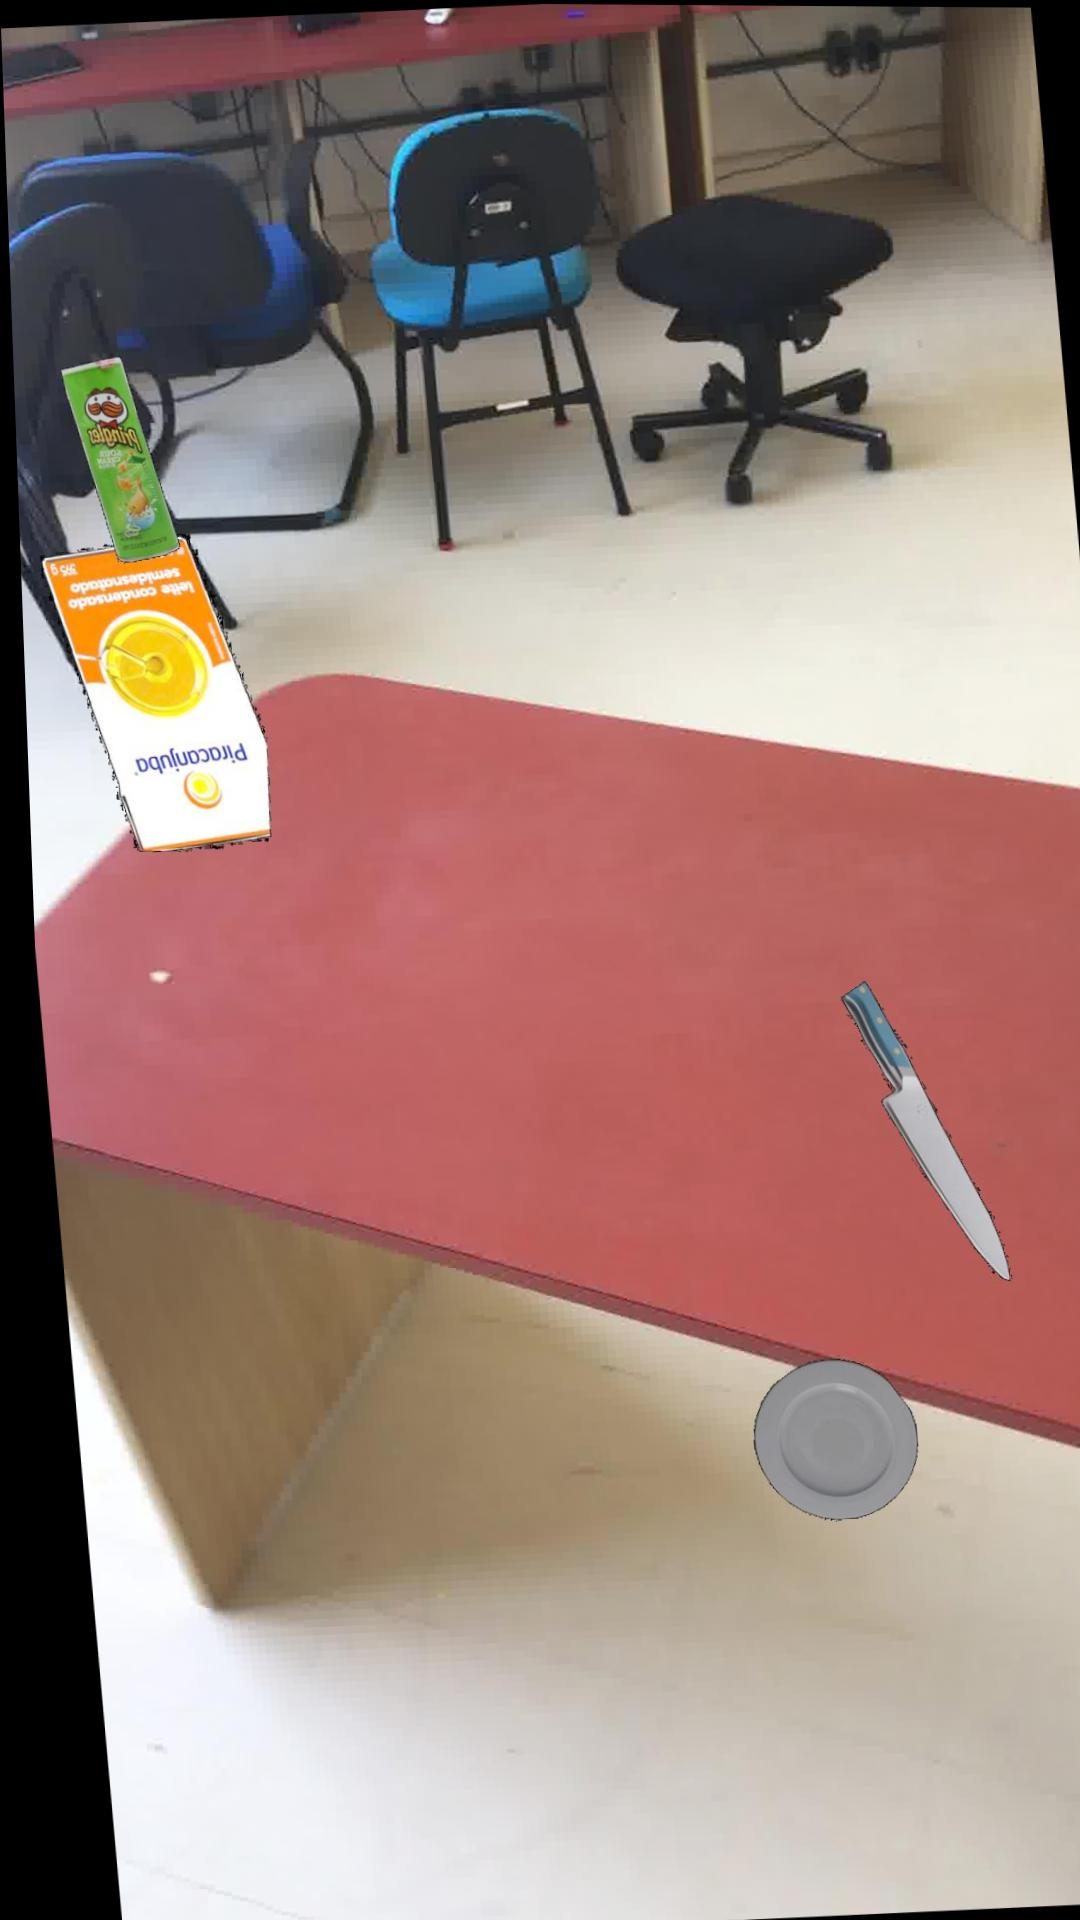knife: (833, 977, 1001, 1276)
plate: (742, 1354, 907, 1516)
pringles: (58, 353, 175, 559)
